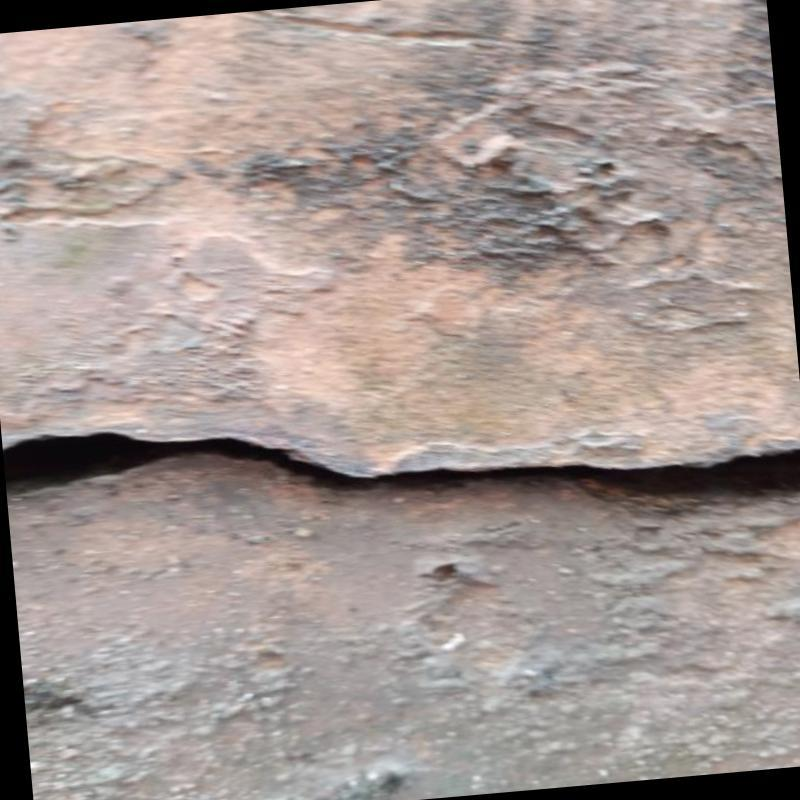pothole: (3, 434, 800, 496)
